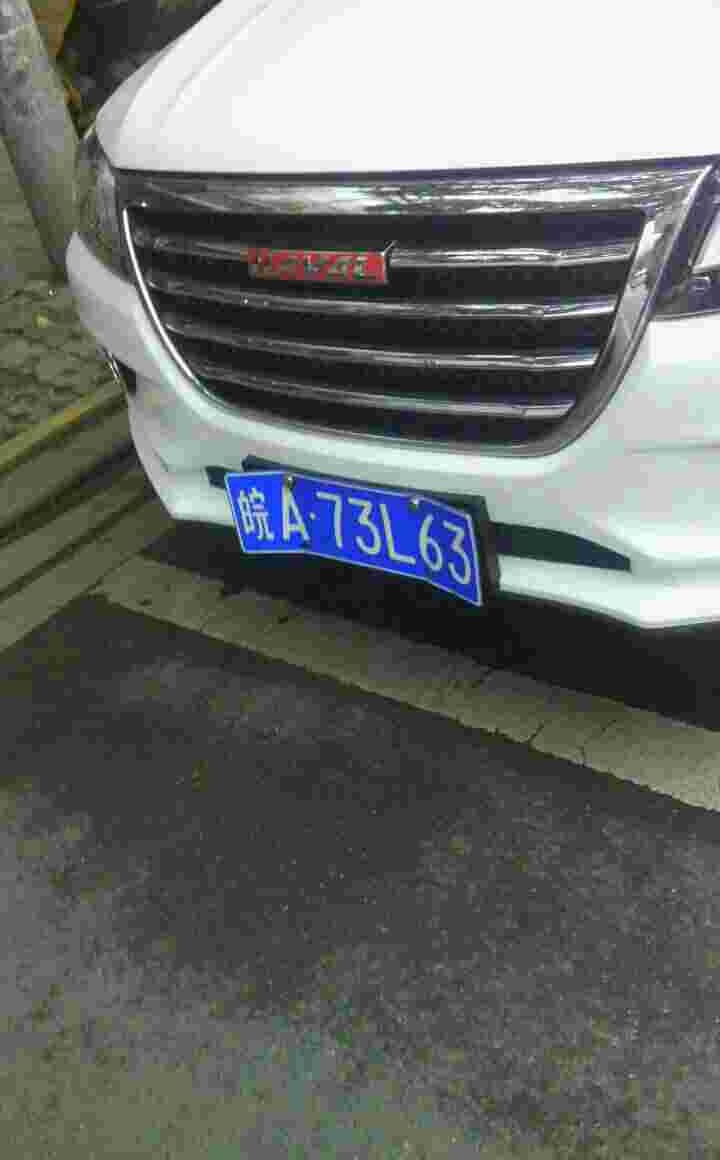license_plate: (224, 465, 492, 601)
